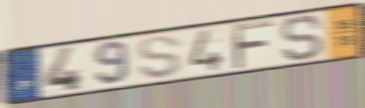4: (43, 44, 86, 93), (188, 28, 226, 73)
9: (92, 39, 131, 88)
F: (230, 19, 277, 72)
S: (279, 14, 325, 63), (136, 34, 183, 80)
